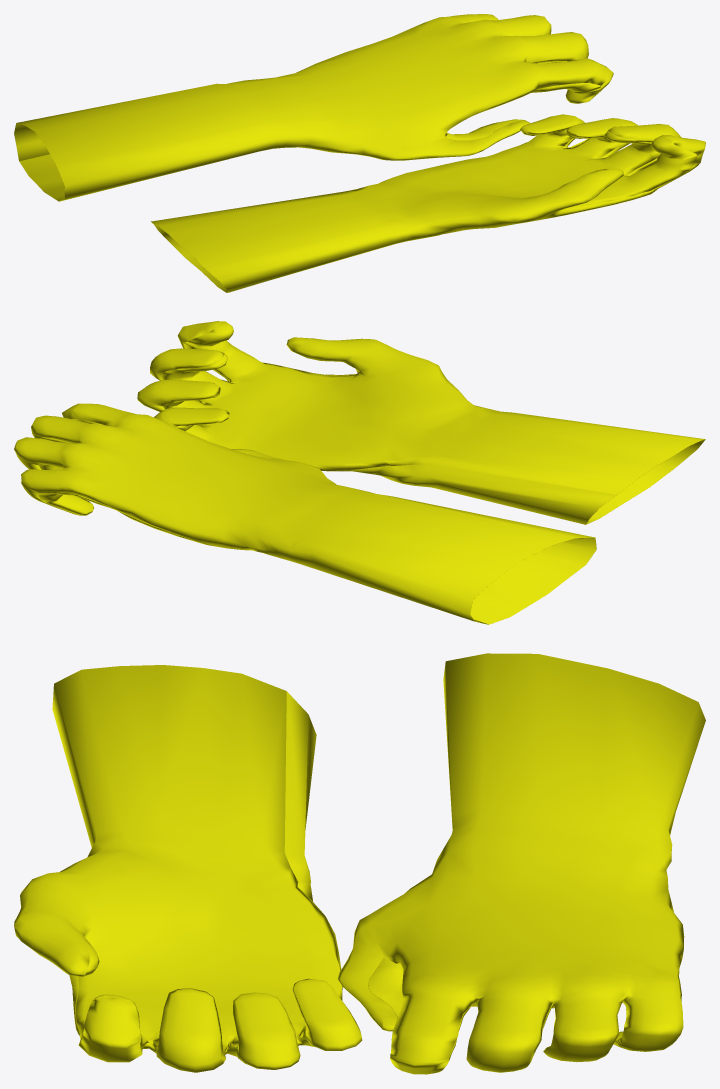
Rendered from cleaning_gloves.fbx.
The picture shows the model from 3 angles, top to bottom: view 1: azimuth 30°, elevation 25°; view 2: azimuth 150°, elevation 25°; view 3: azimuth 270°, elevation 25°; orthographic projection. The views are drawn at different scales.
Visible parts, largest first — view 1: cleaninggloves; view 2: cleaninggloves; view 3: cleaninggloves.
Part boxes in pixels (x1,y1,x2,y2): cleaninggloves: (14,14,705,292); cleaninggloves: (14,321,705,624); cleaninggloves: (14,653,705,1074).
Size of the model in its own units: 1588 by 158 by 1190.
